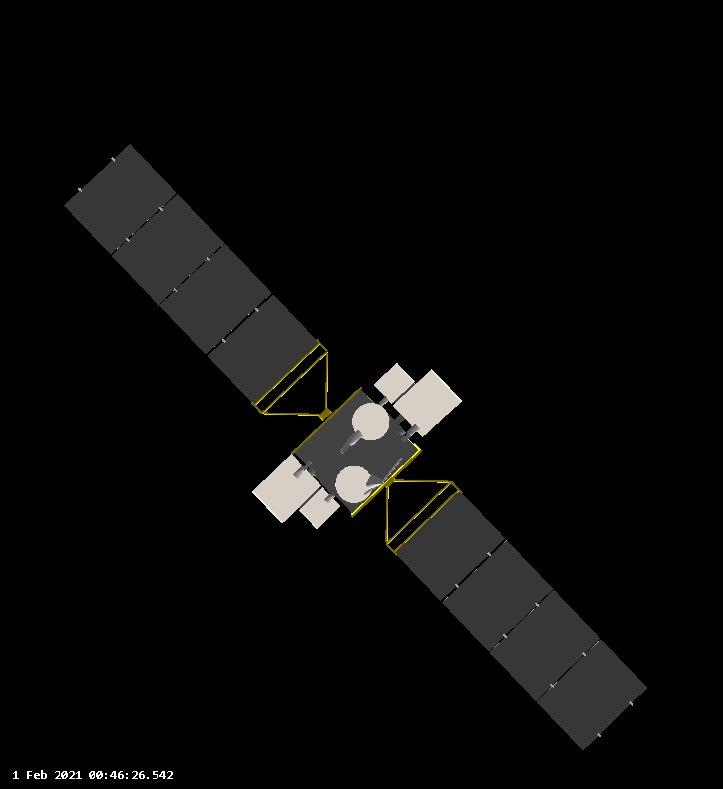antenna: (388, 367, 463, 440), (249, 453, 324, 526), (293, 486, 344, 531), (333, 460, 377, 505), (349, 398, 392, 443), (375, 360, 416, 404)
body: (290, 383, 427, 521)
solar: (59, 140, 333, 423), (380, 473, 651, 756)
